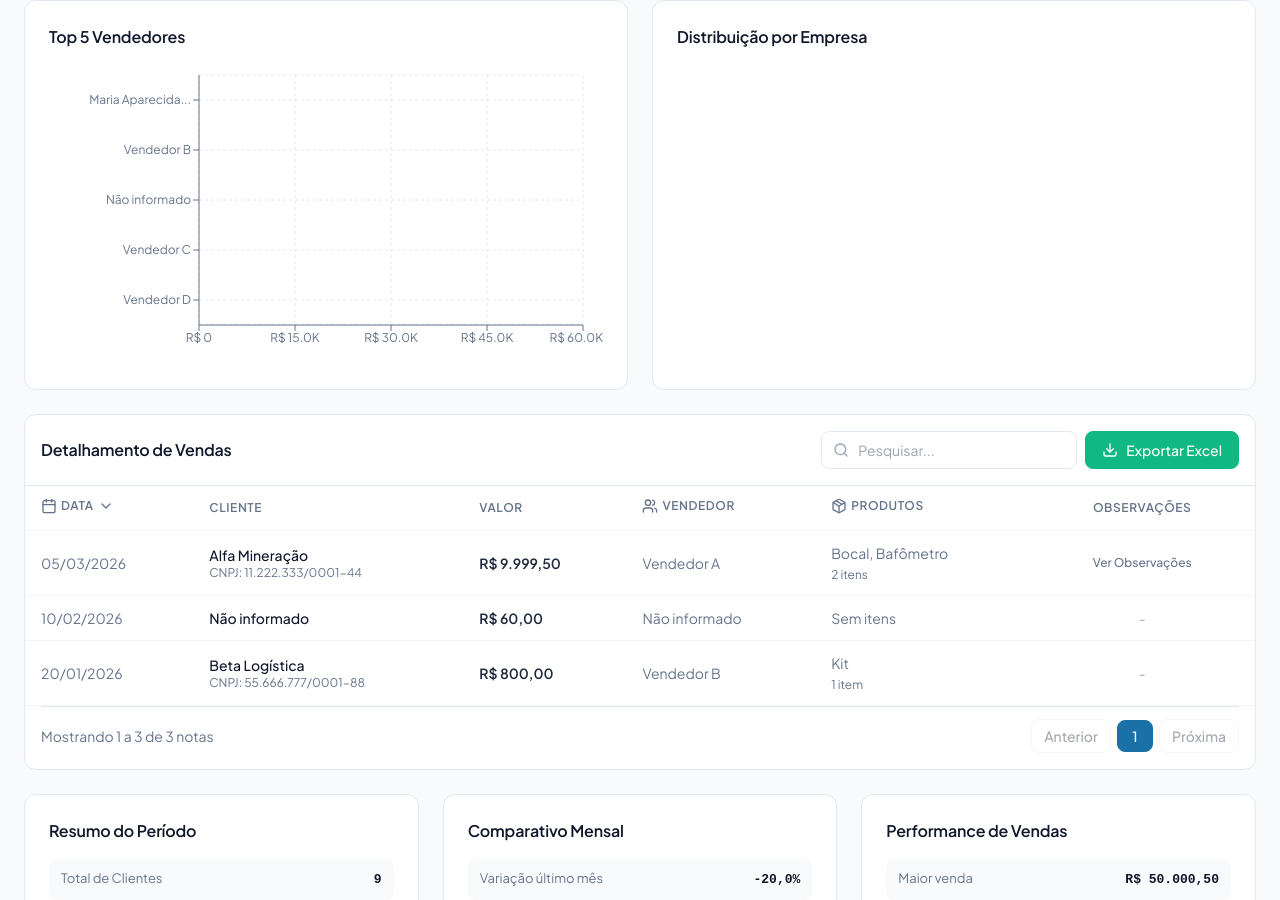
Scenario: exportacao de Vendas › durante a exportacao o botao desabilita, e volta quando termina
(page scrolled)
Click the button "Exportar Excel" at (1162, 450), box [1085,431,1239,469]
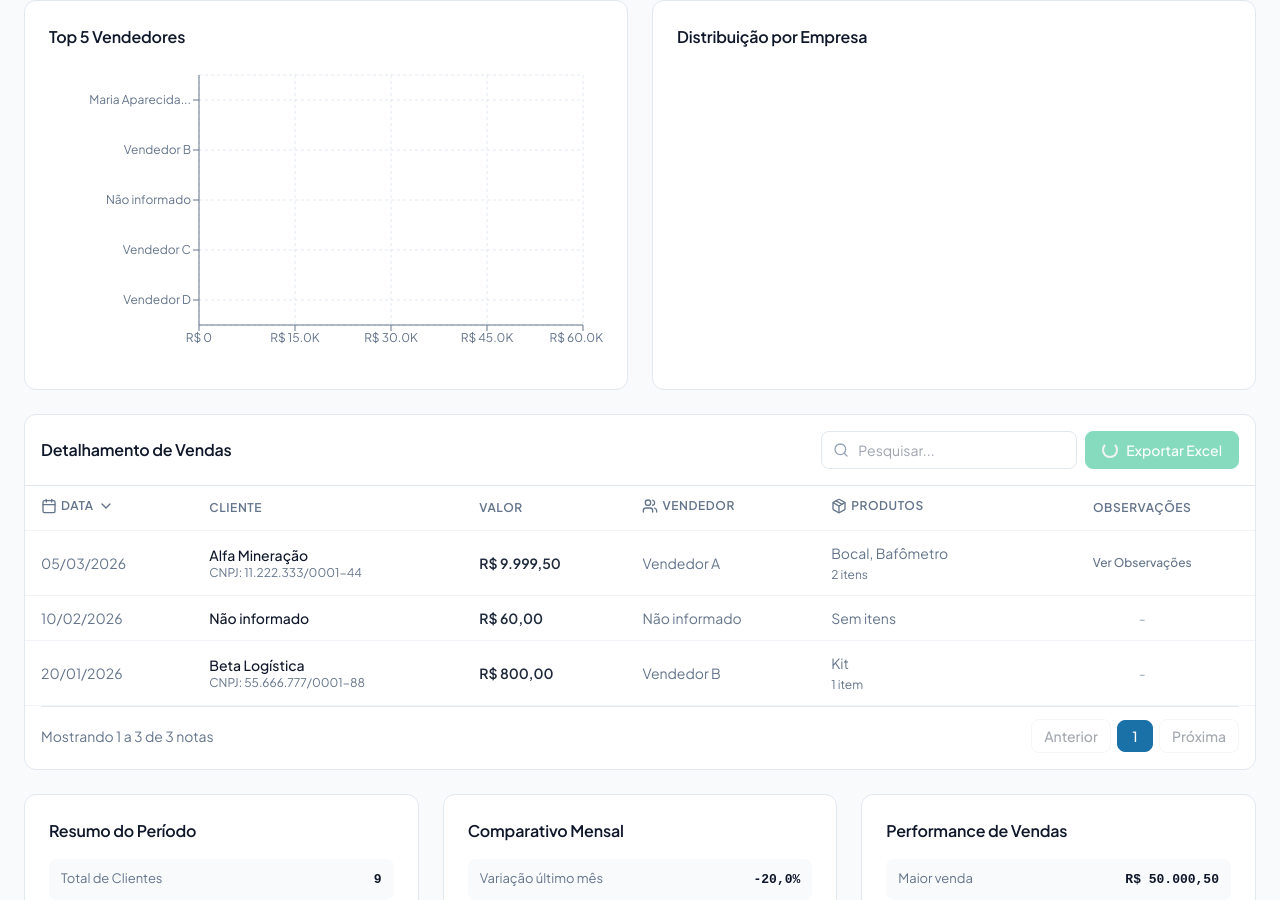
Now the button "Exportar Excel" is disabled
Click the button "Exportar Excel" at (1162, 450), box [1085,431,1239,469]
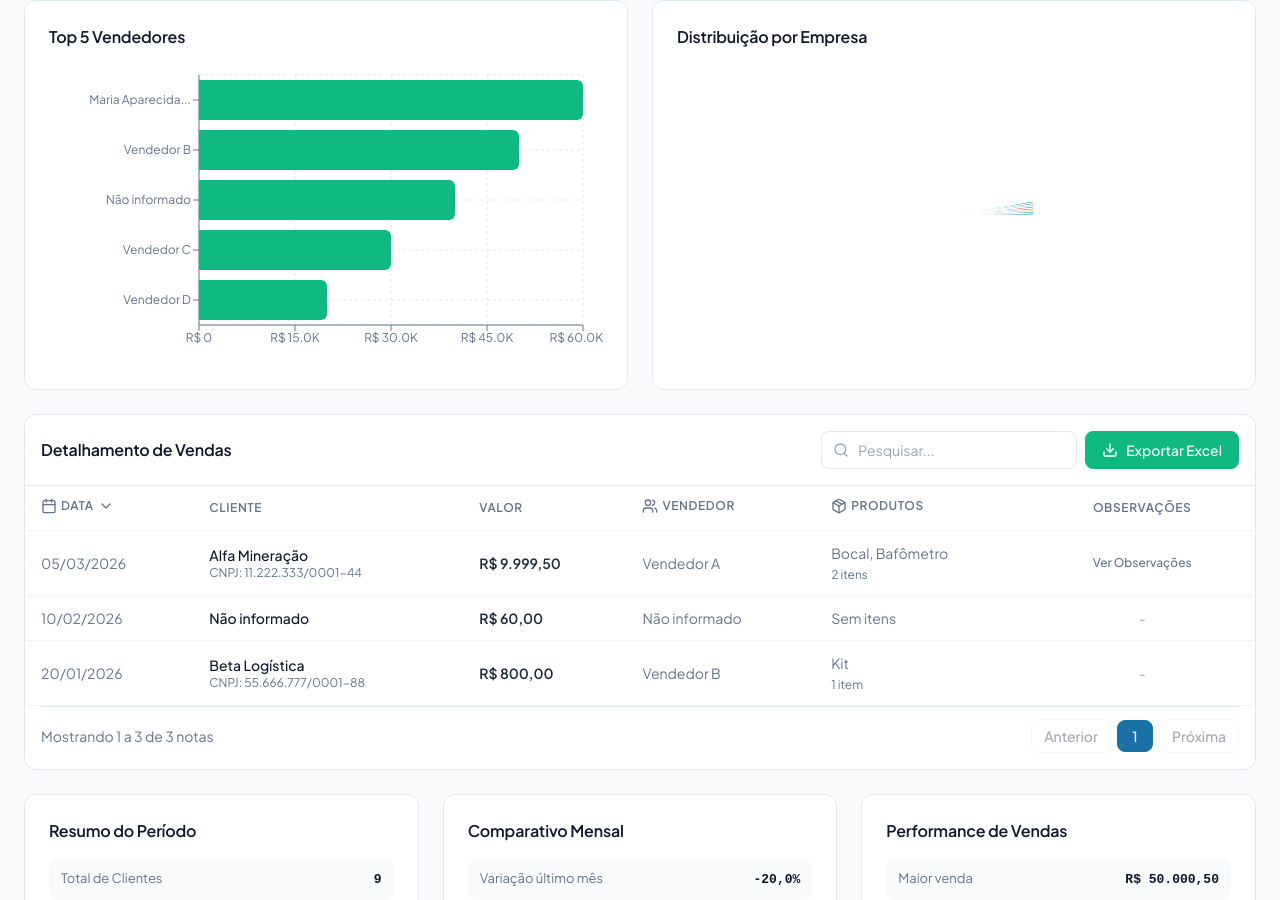
Now the button "Exportar Excel" is enabled, box [1085,431,1239,469]
